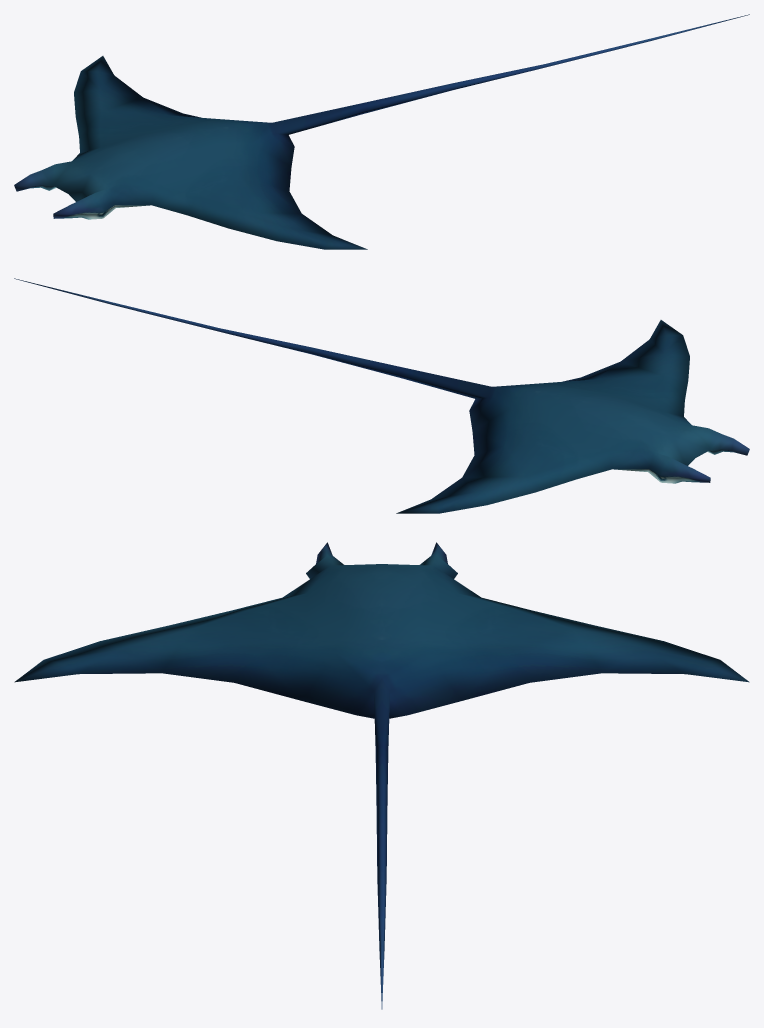
The model's file is f16_fufen.FBX.
3 renders of one model, top to bottom at view 1: azimuth 30°, elevation 25°; view 2: azimuth 150°, elevation 25°; view 3: azimuth 270°, elevation 25°, orthographic. The views are drawn at different scales.
Visible parts, largest first — view 1: f16_fufen; view 2: f16_fufen; view 3: f16_fufen.
Boxes of the visible parts, x1,y1,x2,y2 form: f16_fufen: [14, 14, 749, 249]; f16_fufen: [14, 278, 749, 513]; f16_fufen: [14, 542, 749, 1009].
Bounding box in the file's own units: 577 × 35.05 × 370.
